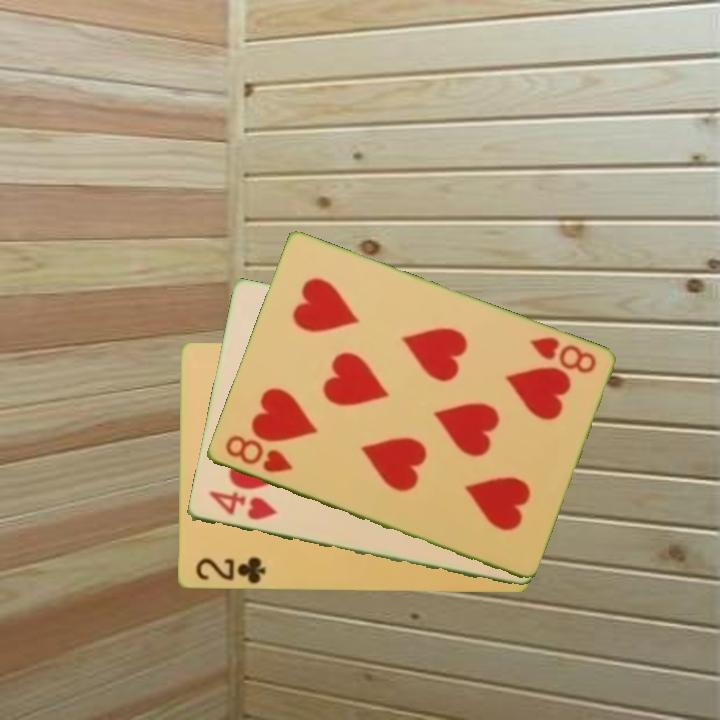2c: (192, 554, 268, 587)
4h: (205, 488, 280, 524)
8h: (221, 431, 295, 476), (525, 333, 599, 377)
